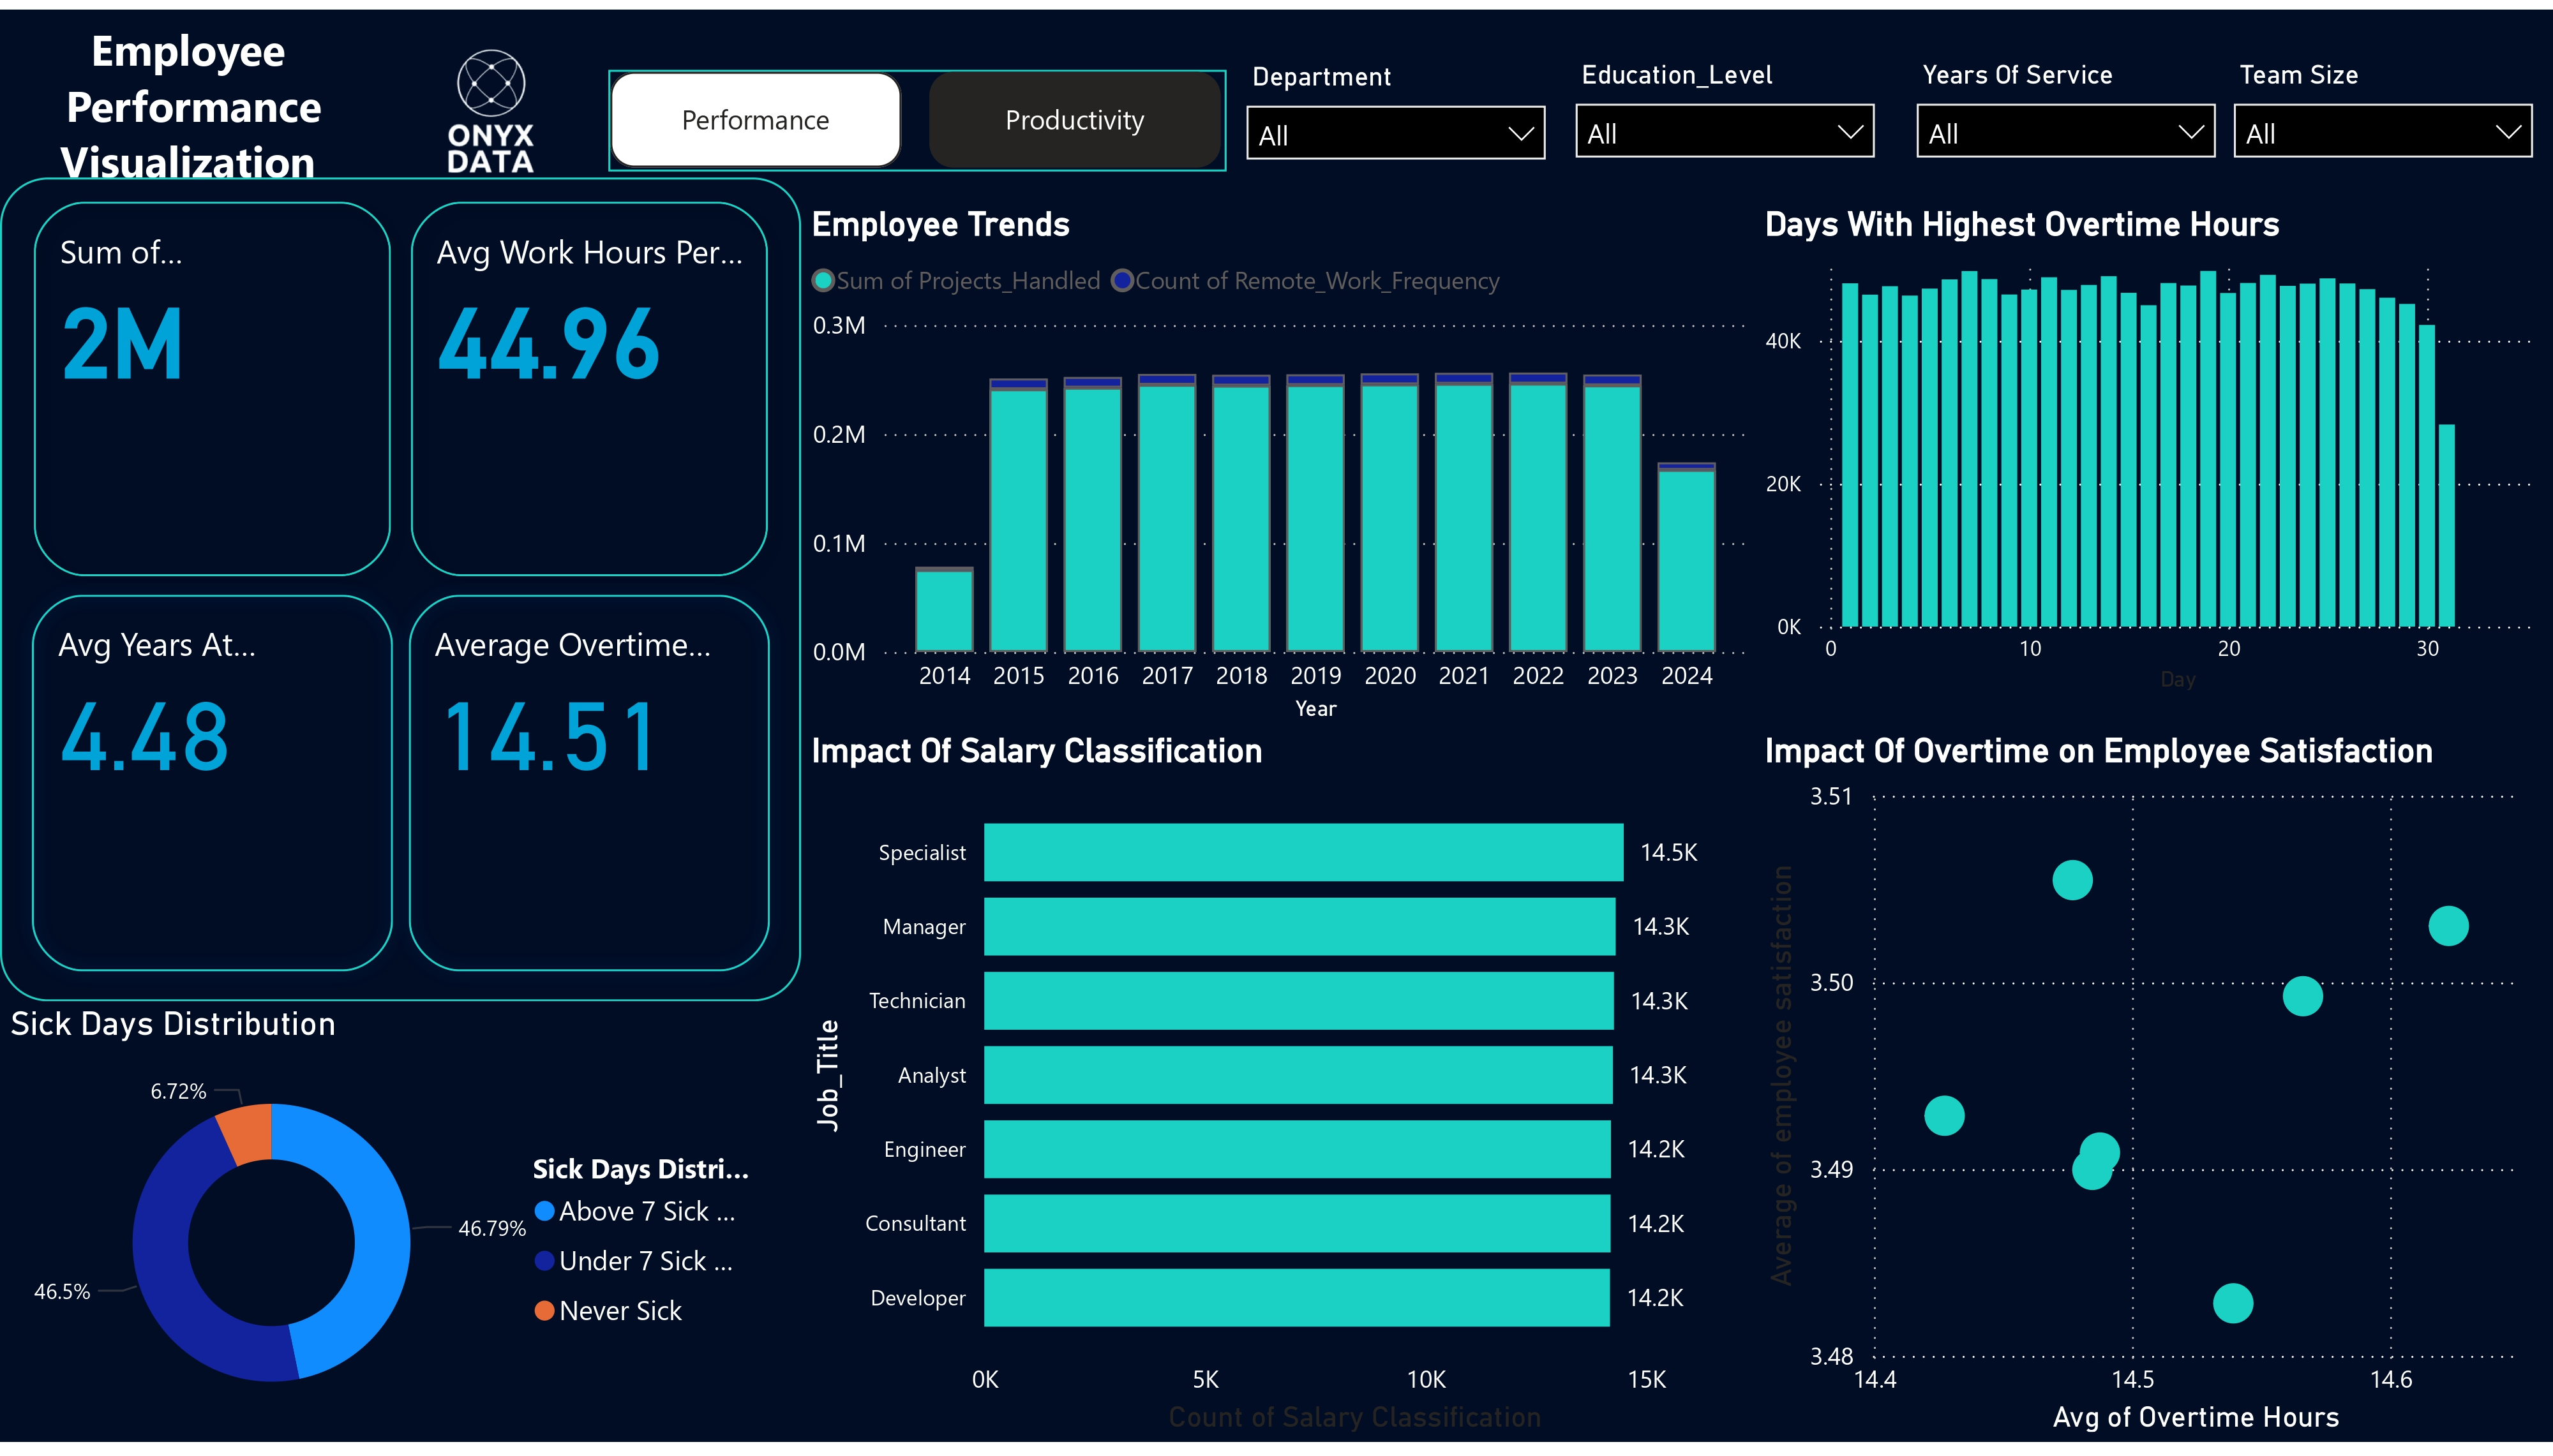

Layout of this report page (visuals, bound fields, positions):
{"tool":"powerbi","page":{"name":" Productivity","canvas":[1280,720],"ordinal":1},"visuals":[{"type":"cardVisual","fields":{"Data":["Sum(Onyx Data - DataDNA Dataset Cha.Projects_Handled)"]},"box":[0,78.7,213,222],"z":0},{"type":"cardVisual","fields":{"Data":["Onyx Data - DataDNA Dataset Cha.Avg Years At Company"]},"box":[0,277,213.1,221.3],"z":1000},{"type":"barChart","title":"Impact Of Salary Classification","fields":{"Category":["Onyx Data - DataDNA Dataset Cha.Job_Title"],"Y":["CountNonNull(Onyx Data - DataDNA Dataset Cha.Salary Classification)"]},"box":[401.6,360.7,478.7,357.4],"z":2000},{"type":"columnChart","title":"Employee Trends","fields":{"Category":["Onyx Data - DataDNA Dataset Cha.Hire_Date.Variation.Date Hierarchy.Year"],"Y":["Sum(Onyx Data - DataDNA Dataset Cha.Projects_Handled)","CountNonNull(Onyx Data - DataDNA Dataset Cha.Remote_Work_Frequency)"]},"box":[401.6,96.7,478.7,263.9],"z":3000},{"type":"donutChart","title":"Sick Days Distribution","fields":{"Category":["Onyx Data - DataDNA Dataset Cha.Sick Days Distribution"],"Y":["CountNonNull(Onyx Data - DataDNA Dataset Cha.Sick Days Distribution)"]},"box":[0,498.4,385.2,221.3],"z":4000},{"type":"columnChart","title":"Days With Highest Overtime Hours","fields":{"Category":["Onyx Data - DataDNA Dataset Cha.Hire_Date.Variation.Date Hierarchy.Day"],"Y":["Sum(Onyx Data - DataDNA Dataset Cha.Overtime_Hours)"]},"box":[880.3,96.7,398.4,249.2],"z":5000},{"type":"slicer","fields":{"Values":["Onyx Data - DataDNA Dataset Cha.Department"]},"box":[614.8,21.3,170.5,59],"z":6000},{"type":"scatterChart","title":"Impact Of Overtime on Employee Satisfaction","fields":{"X":["Onyx Data - DataDNA Dataset Cha.Avg of Overtime Hours"],"Y":["Onyx Data - DataDNA Dataset Cha.Average of employee satisfaction"],"Category":["Onyx Data - DataDNA Dataset Cha.Job_Title"]},"box":[880.3,360.7,400,357.4],"z":7000},{"type":"textbox","box":[0,0,188.5,96.7],"z":8000},{"type":"slicer","fields":{"Values":["Onyx Data - DataDNA Dataset Cha.Education_Level"]},"box":[780.3,19.7,170.5,59],"z":9000},{"type":"slicer","fields":{"Values":["Onyx Data - DataDNA Dataset Cha.Years_At_Company"]},"box":[950.8,19.7,170.5,60.7],"z":10000},{"type":"slicer","fields":{"Values":["Onyx Data - DataDNA Dataset Cha.TeamSize GR"]},"box":[1109.8,19.7,170.5,59],"z":11000},{"type":"cardVisual","fields":{"Data":["Onyx Data - DataDNA Dataset Cha.Avg Work Hours Per Week"]},"box":[188.5,78.7,213.1,223],"z":12000},{"type":"cardVisual","fields":{"Data":["Onyx Data - DataDNA Dataset Cha.Average Overtime Hours"]},"box":[188.5,277,213.1,221.3],"z":13000},{"type":"image","box":[193.4,1.6,106.6,96.7],"z":14000},{"type":"pageNavigator","box":[304.9,29.5,309.8,50.8],"z":14001},{"type":"shape","box":[0,83.6,401.6,413.1],"z":14002}]}

Visuals, with their boxes in screenshot pixels (x1, y1, x2, y2), scaled from the page's 1280x720 canvas onto the 2553x1456 screenshot:
cardVisual - Sum(Onyx Data - DataDNA Dataset Cha.Projects_Handled): box(0, 159, 425, 608)
cardVisual - Onyx Data - DataDNA Dataset Cha.Avg Years At Company: box(0, 560, 425, 1007)
"Impact Of Salary Classification" barChart: box(801, 729, 1756, 1452)
"Employee Trends" columnChart: box(801, 195, 1756, 729)
"Sick Days Distribution" donutChart: box(0, 1008, 768, 1455)
"Days With Highest Overtime Hours" columnChart: box(1756, 195, 2550, 699)
slicer - Onyx Data - DataDNA Dataset Cha.Department: box(1226, 43, 1566, 163)
"Impact Of Overtime on Employee Satisfaction" scatterChart: box(1756, 729, 2552, 1452)
textbox: box(0, 0, 376, 195)
slicer - Onyx Data - DataDNA Dataset Cha.Education_Level: box(1556, 40, 1896, 159)
slicer - Onyx Data - DataDNA Dataset Cha.Years_At_Company: box(1896, 40, 2236, 163)
slicer - Onyx Data - DataDNA Dataset Cha.TeamSize GR: box(2213, 40, 2552, 159)
cardVisual - Onyx Data - DataDNA Dataset Cha.Avg Work Hours Per Week: box(376, 159, 801, 610)
cardVisual - Onyx Data - DataDNA Dataset Cha.Average Overtime Hours: box(376, 560, 801, 1007)
image: box(386, 3, 599, 199)
pageNavigator: box(608, 59, 1226, 163)
shape: box(0, 169, 801, 1004)
